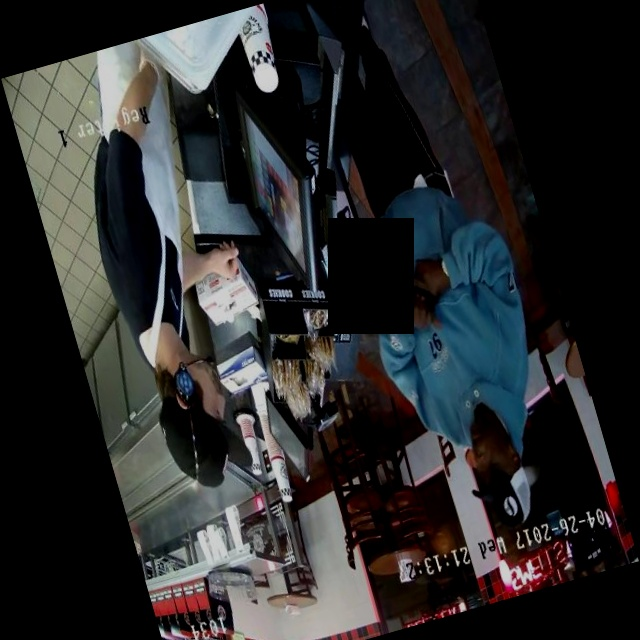gun: (378, 256, 457, 339)
